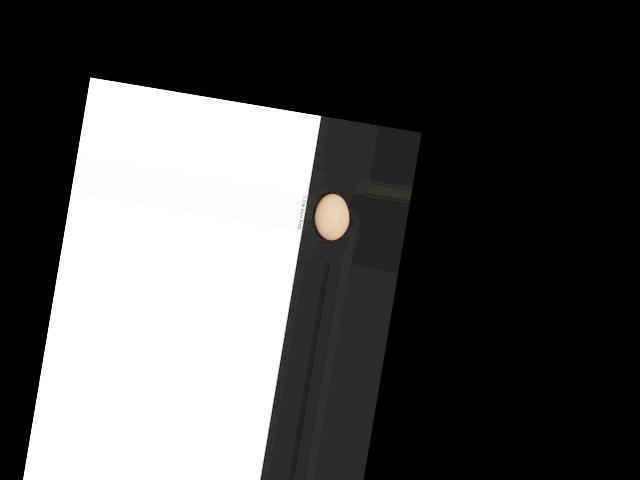egg: (310, 191, 352, 242)
